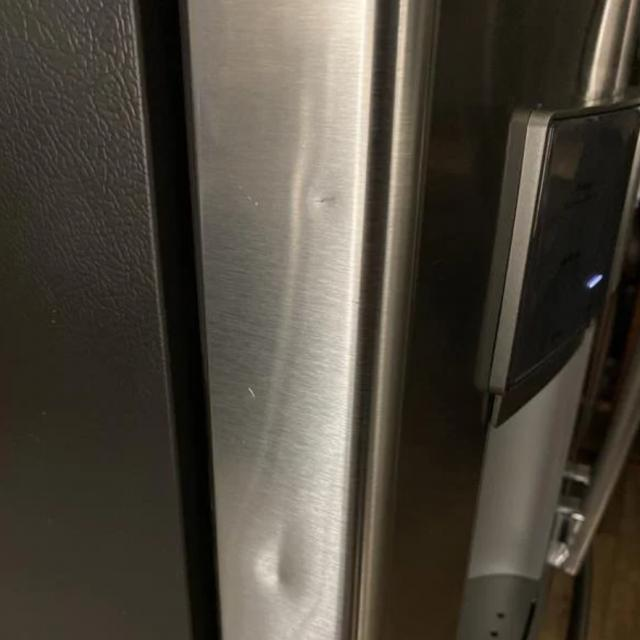dents: (245, 511, 345, 639), (274, 172, 361, 249)
